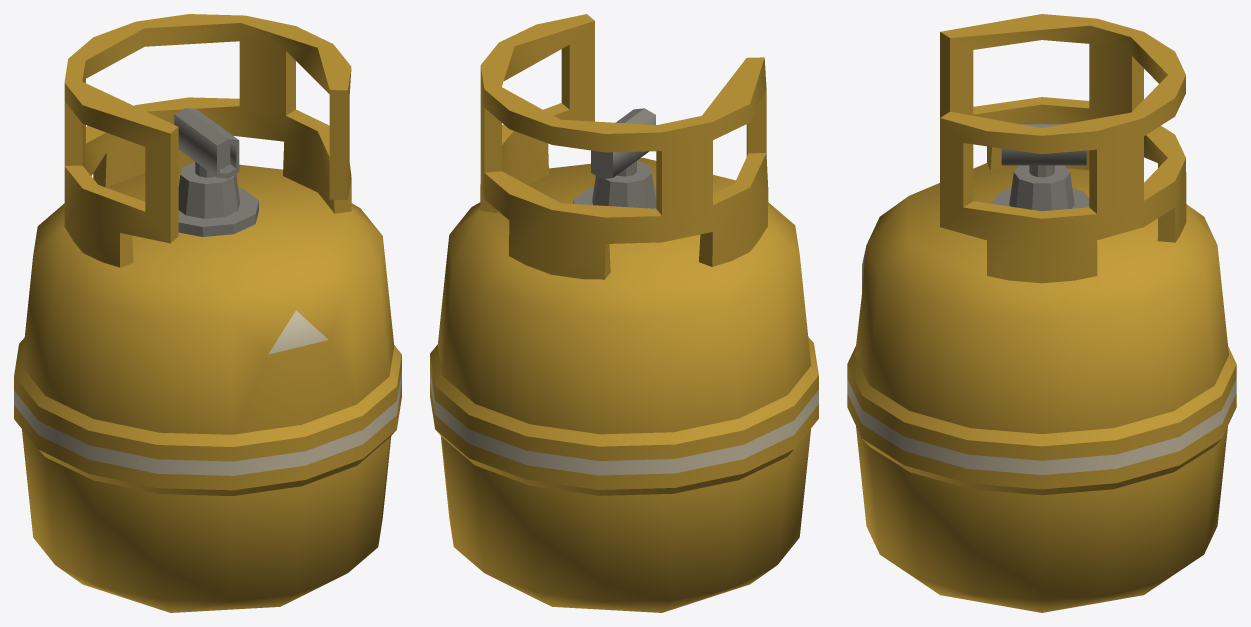
The model's file is cc0-gas-tank-lod1.glb.
3 renders of one model, left to right at view 1: azimuth 30°, elevation 25°; view 2: azimuth 150°, elevation 25°; view 3: azimuth 270°, elevation 25°, orthographic.
Visible parts, largest first — view 1: part_0; view 2: part_0; view 3: part_0.
Part boxes in pixels (box(x1,y1,x2,y2)): part_0: box(14, 14, 401, 612); part_0: box(430, 14, 818, 612); part_0: box(847, 14, 1236, 612).
Size of the model in its own units: 1.01 by 1.36 by 1.01.
